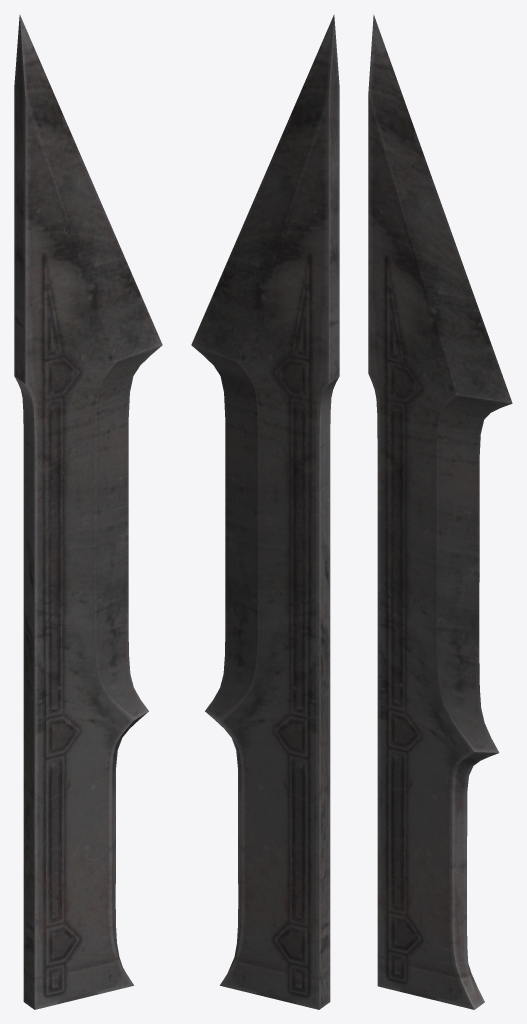
File: sm_dwarf_iron_sword_blade_b.fbx
3 views of the same model, side by side, from view 1: azimuth 30°, elevation 25°; view 2: azimuth 150°, elevation 25°; view 3: azimuth 330°, elevation 25° (orthographic). The views are drawn at different scales.
Visible parts, largest first — view 1: sm_dwarf_iron_sword_blade_b; view 2: sm_dwarf_iron_sword_blade_b; view 3: sm_dwarf_iron_sword_blade_b.
Part boxes in pixels (x1=…): sm_dwarf_iron_sword_blade_b: x1=14, y1=14, x2=162, y2=1009; sm_dwarf_iron_sword_blade_b: x1=191, y1=14, x2=339, y2=1009; sm_dwarf_iron_sword_blade_b: x1=368, y1=14, x2=512, y2=1009.
Size of the model in its own units: 0.1506 by 0.02 by 1.
1 material, 1 textured.
